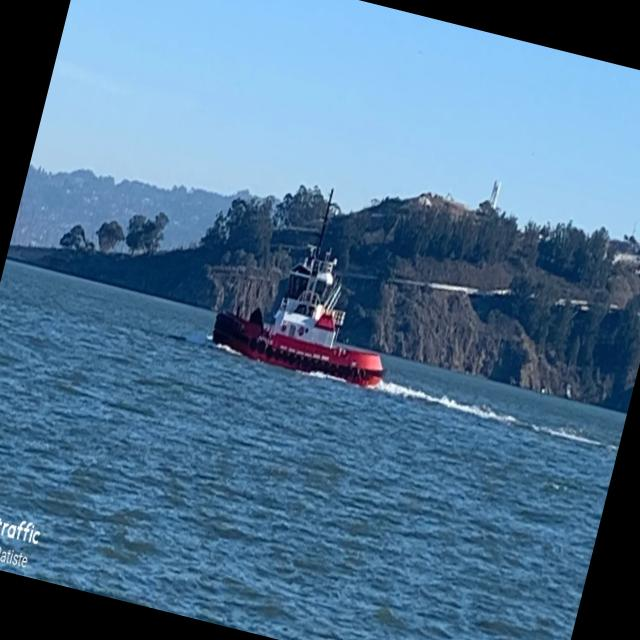Tug: (208, 191, 382, 386)
